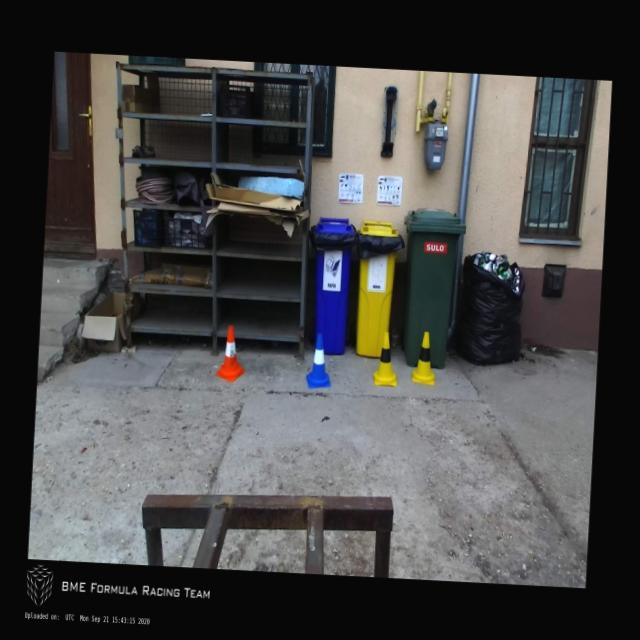blue_cone: (306, 332, 333, 388)
orange_cone: (216, 325, 247, 382)
yellow_cone: (372, 332, 400, 386), (412, 331, 436, 385)
